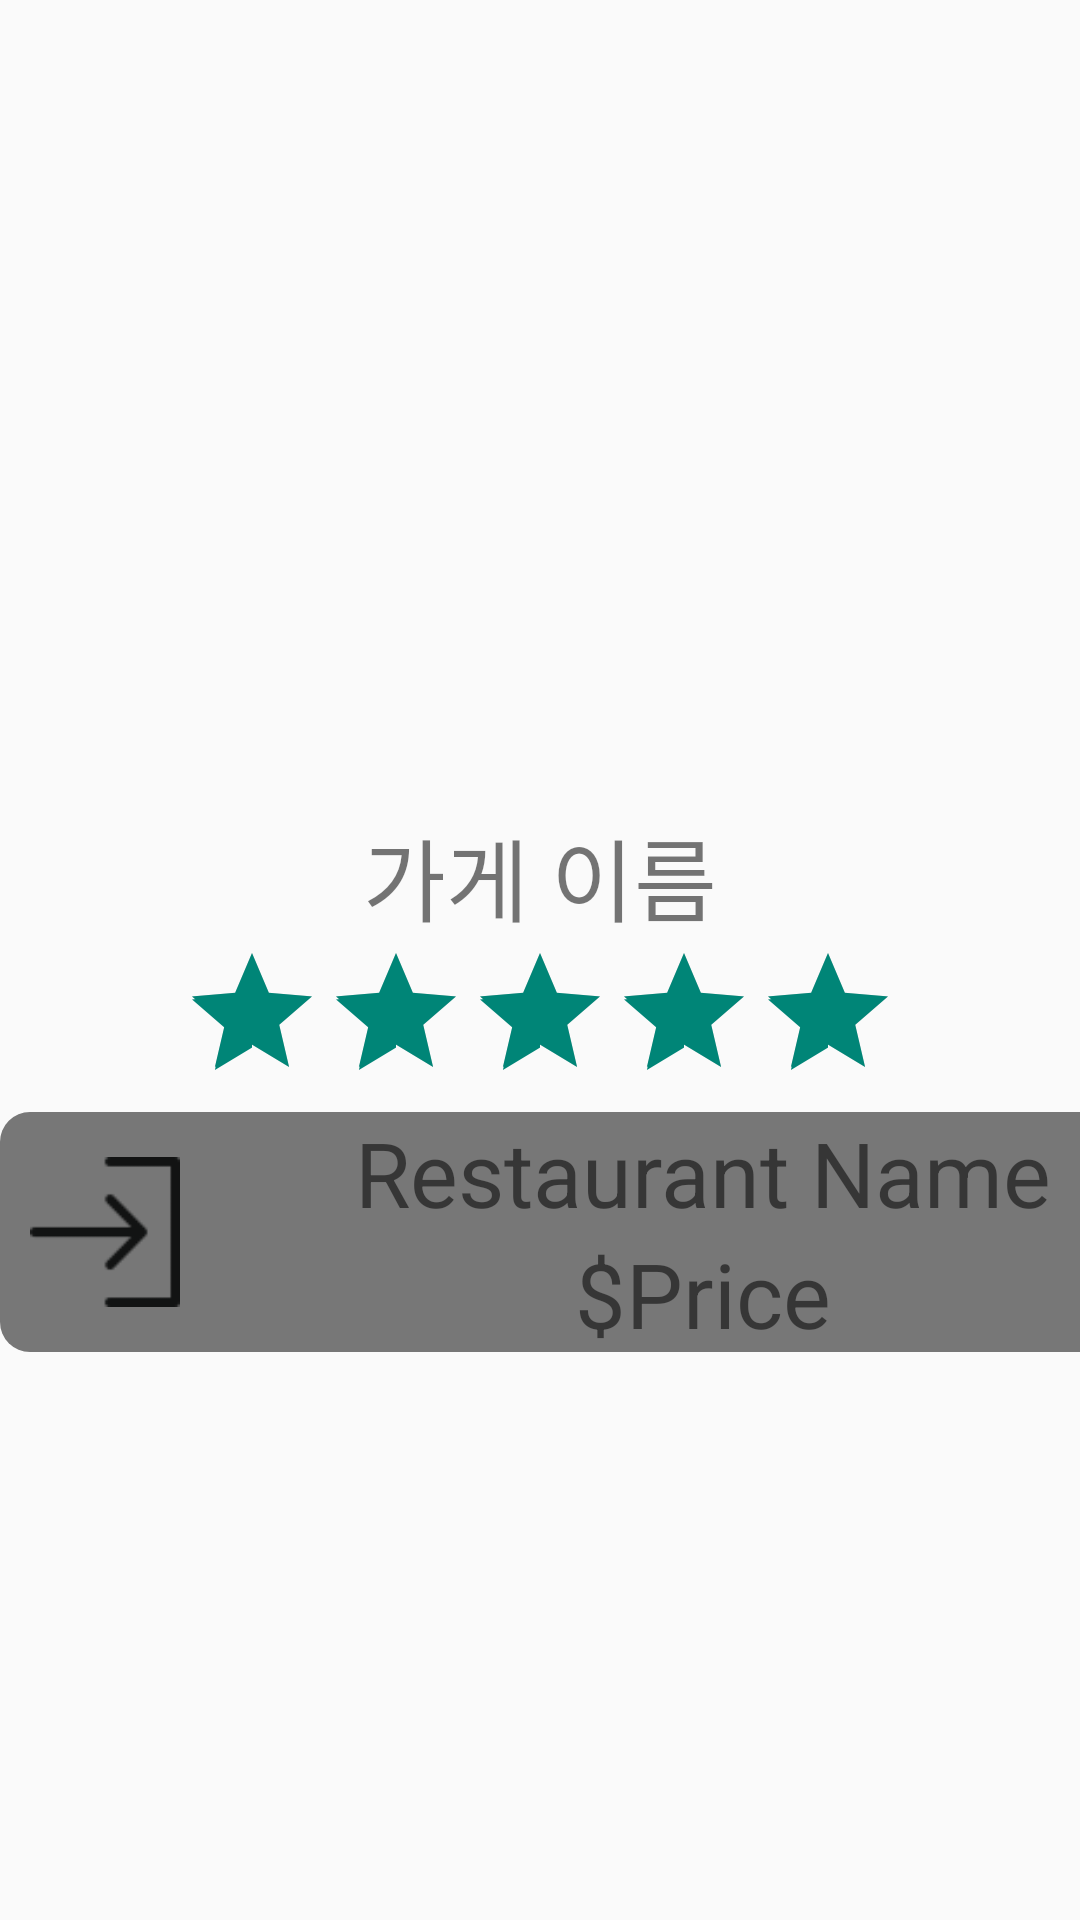

Where to tap for icons on this 1080 × 1920 app screen, as (x=x, y=y):
signin: (x=90, y=1232)
